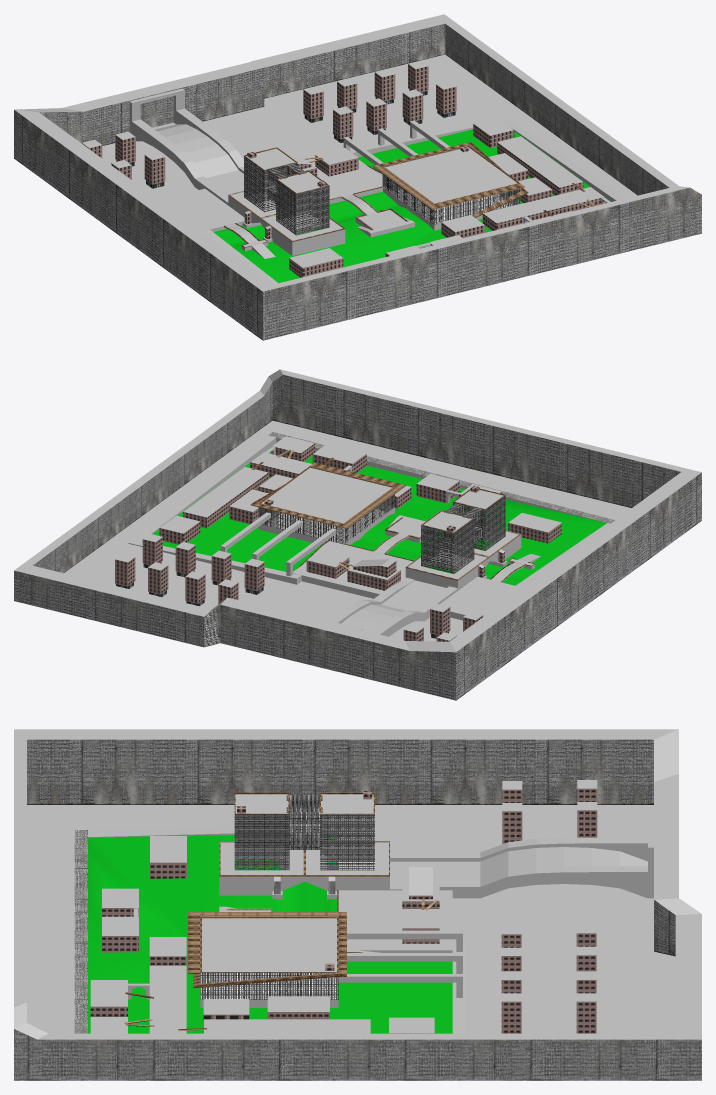
File: TownA.fbx
3 views of the same model, one above another, from view 1: azimuth 30°, elevation 25°; view 2: azimuth 150°, elevation 25°; view 3: azimuth 270°, elevation 25° (orthographic). The views are drawn at different scales.
Visible parts, largest first — view 1: pCube2; view 2: pCube2; view 3: pCube2.
Boxes of the visible parts, <box> form: pCube2: <box>14,14,701,340</box>; pCube2: <box>14,369,701,700</box>; pCube2: <box>14,729,701,1080</box>.
Size of the model in its own units: 51986 by 52820 by 7175.
Materials: 6 (4 with a texture image).
